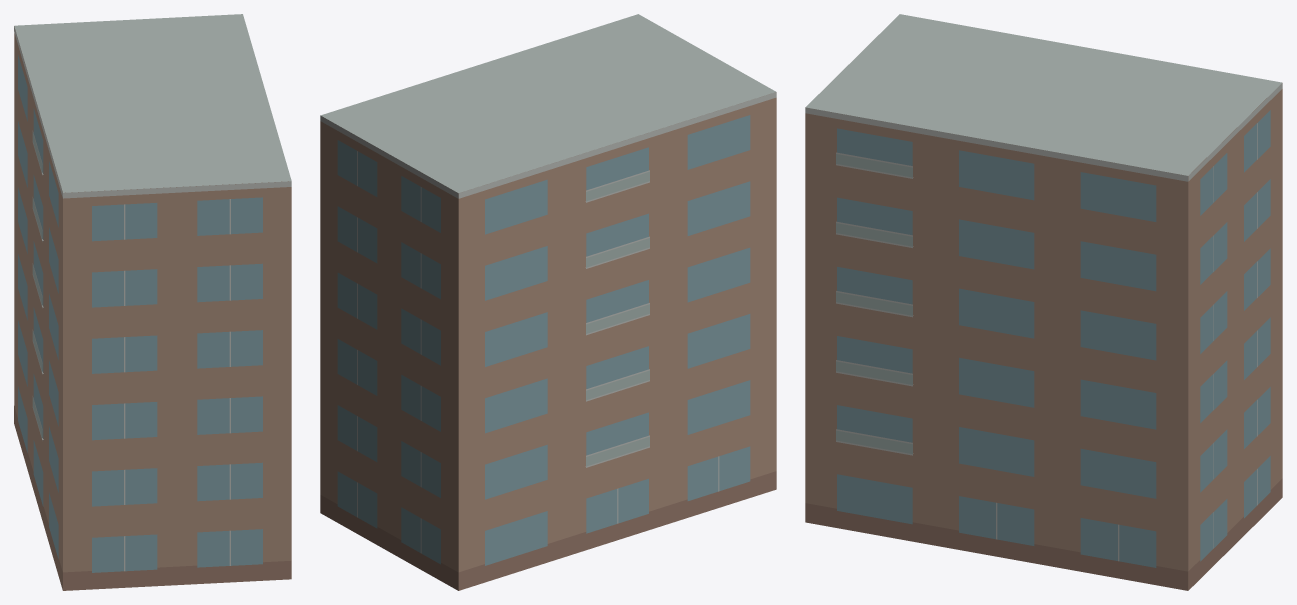
Rendered from survey-upis-32887691.glb.
The picture shows the model from 3 angles, left to right: view 1: azimuth 30°, elevation 25°; view 2: azimuth 150°, elevation 25°; view 3: azimuth 270°, elevation 25°; orthographic projection. The views are drawn at different scales.
Parts seen in each view (by area): view 1: survey-upis-32887691.tmp; view 2: survey-upis-32887691.tmp; view 3: survey-upis-32887691.tmp.
Boxes of the visible parts, x1,y1,x2,y2 form: survey-upis-32887691.tmp: [14, 14, 291, 590]; survey-upis-32887691.tmp: [320, 14, 776, 590]; survey-upis-32887691.tmp: [805, 14, 1282, 590].
Bounding box in the file's own units: 14.4 × 17.2 × 17.93.
